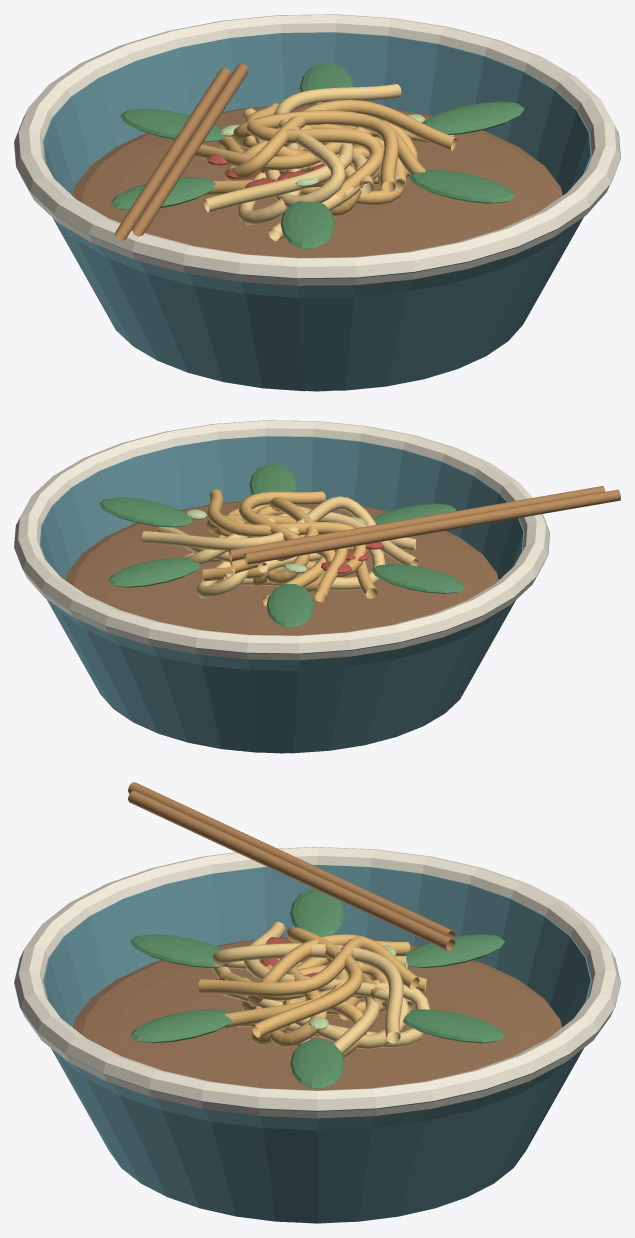
The model's file is harbour_noodles.glb.
The picture shows the model from 3 angles, top to bottom: view 1: azimuth 30°, elevation 25°; view 2: azimuth 150°, elevation 25°; view 3: azimuth 270°, elevation 25°; orthographic projection. The views are drawn at different scales.
Parts seen in each view (by area): view 1: harbour_blue_bowl_hollow_profile, harbour_blue_bowl_rolled_lip, noodle_broth_surface, curled_noodle_8, curled_noodle_5, curled_noodle_2, bamboo_chopstick_1, bamboo_chopstick_0, blanched_green_5, curled_noodle_4, curled_noodle_11, blanched_green_0 (+11 smaller); view 2: harbour_blue_bowl_hollow_profile, harbour_blue_bowl_rolled_lip, noodle_broth_surface, bamboo_chopstick_0, curled_noodle_8, bamboo_chopstick_1, curled_noodle_2, curled_noodle_5, blanched_green_0, blanched_green_3, blanched_green_1, blanched_green_2 (+11 smaller); view 3: harbour_blue_bowl_hollow_profile, harbour_blue_bowl_rolled_lip, noodle_broth_surface, bamboo_chopstick_1, curled_noodle_8, bamboo_chopstick_0, curled_noodle_5, curled_noodle_2, curled_noodle_4, blanched_green_5, blanched_green_1, curled_noodle_11 (+9 smaller).
Part boxes in pixels (x1=…): harbour_blue_bowl_hollow_profile: x1=14, y1=32, x2=620, y2=391; harbour_blue_bowl_rolled_lip: x1=14, y1=14, x2=620, y2=285; noodle_broth_surface: x1=72, y1=105, x2=562, y2=257; curled_noodle_8: x1=243, y1=84, x2=401, y2=207; curled_noodle_5: x1=224, y1=99, x2=456, y2=180; curled_noodle_2: x1=232, y1=110, x2=398, y2=192; bamboo_chopstick_1: x1=132, y1=63, x2=248, y2=236; bamboo_chopstick_0: x1=114, y1=68, x2=231, y2=240; blanched_green_5: x1=409, y1=169, x2=514, y2=203; curled_noodle_4: x1=204, y1=102, x2=379, y2=212; curled_noodle_11: x1=245, y1=103, x2=383, y2=183; blanched_green_0: x1=423, y1=101, x2=524, y2=134; harbour_blue_bowl_hollow_profile: x1=14, y1=436, x2=549, y2=753; harbour_blue_bowl_rolled_lip: x1=14, y1=420, x2=549, y2=660; noodle_broth_surface: x1=65, y1=501, x2=498, y2=635; bamboo_chopstick_0: x1=244, y1=489, x2=620, y2=564; curled_noodle_8: x1=142, y1=496, x2=376, y2=573; bamboo_chopstick_1: x1=229, y1=486, x2=605, y2=560; curled_noodle_2: x1=228, y1=491, x2=325, y2=583; curled_noodle_5: x1=207, y1=489, x2=366, y2=577; blanched_green_0: x1=99, y1=497, x2=192, y2=527; blanched_green_3: x1=371, y1=563, x2=464, y2=593; blanched_green_1: x1=107, y1=557, x2=200, y2=587; blanched_green_2: x1=266, y1=584, x2=314, y2=627; harbour_blue_bowl_hollow_profile: x1=14, y1=864, x2=620, y2=1223; harbour_blue_bowl_rolled_lip: x1=14, y1=847, x2=620, y2=1118; noodle_broth_surface: x1=73, y1=937, x2=561, y2=1090; bamboo_chopstick_1: x1=128, y1=790, x2=455, y2=950; curled_noodle_8: x1=212, y1=943, x2=407, y2=1043; bamboo_chopstick_0: x1=128, y1=782, x2=455, y2=938; curled_noodle_5: x1=251, y1=927, x2=385, y2=1037; curled_noodle_2: x1=198, y1=936, x2=379, y2=1000; curled_noodle_4: x1=222, y1=921, x2=409, y2=1049; blanched_green_5: x1=130, y1=1009, x2=232, y2=1043; blanched_green_1: x1=402, y1=1009, x2=504, y2=1043; curled_noodle_11: x1=248, y1=934, x2=419, y2=1006.
Bounding box in the file's own units: 0.8665 × 0.345 × 0.82.
